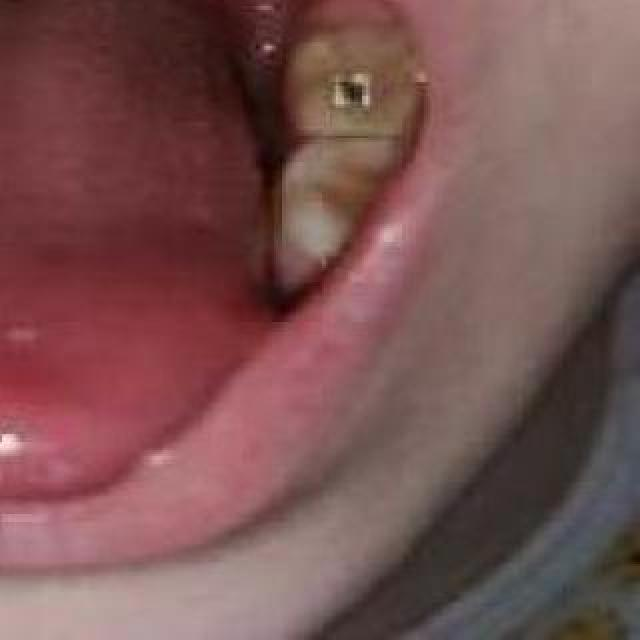cavities: (297, 26, 417, 132)
